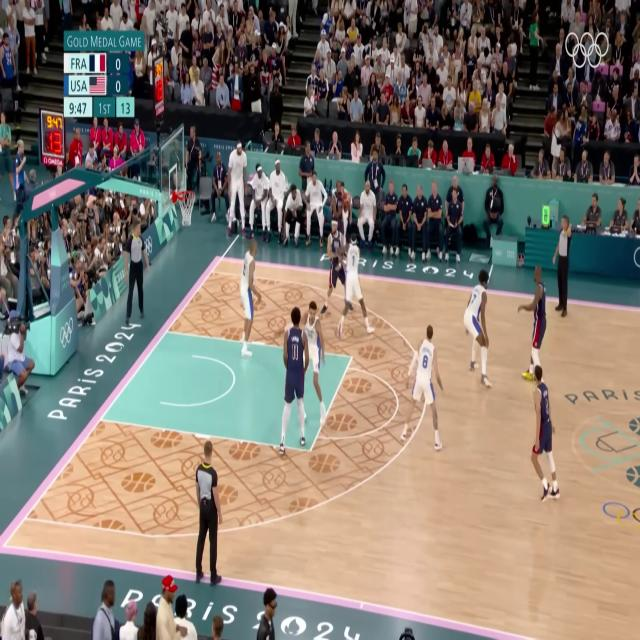player: (513, 360, 568, 506), (400, 319, 445, 463), (332, 224, 378, 345), (273, 302, 310, 452), (514, 261, 550, 391), (462, 264, 493, 399), (314, 214, 348, 330), (300, 297, 329, 430), (233, 236, 260, 362)
